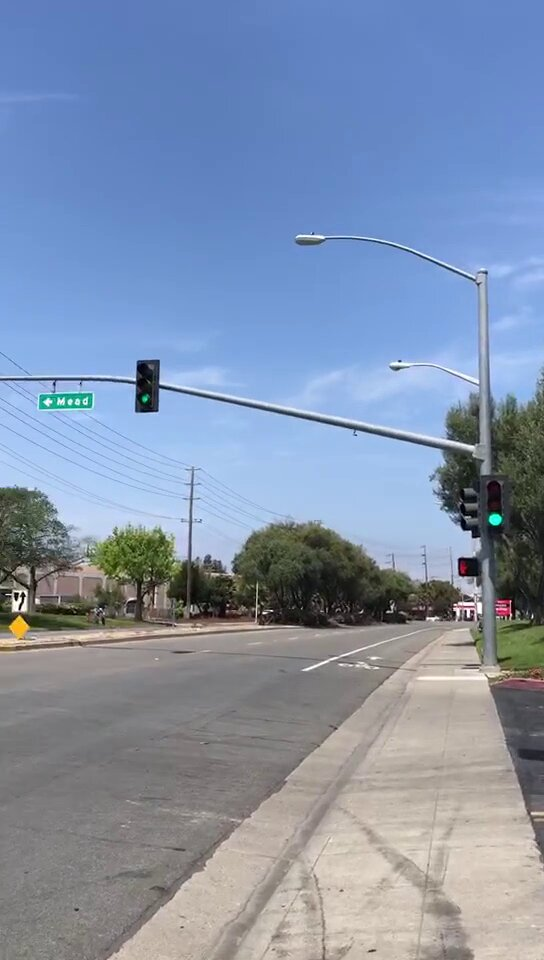green_light: (483, 480, 508, 532), (137, 361, 159, 409)
